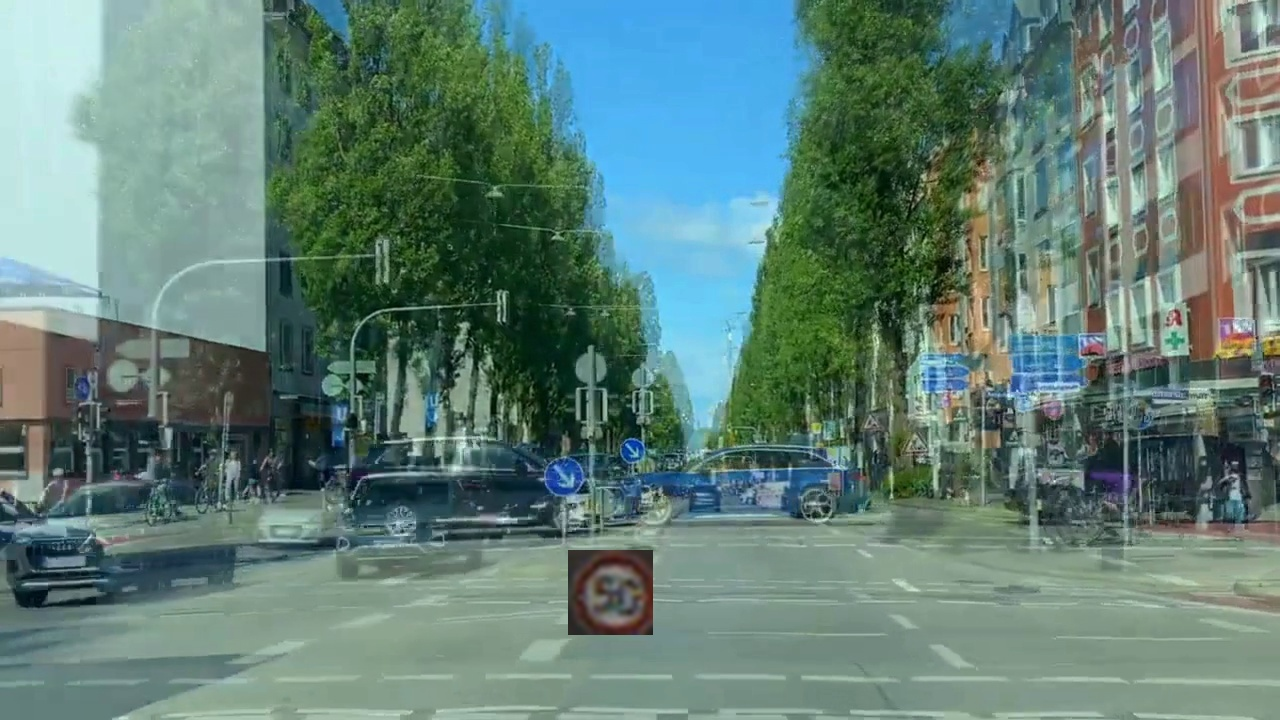Speed 50: (568, 550, 653, 635)
